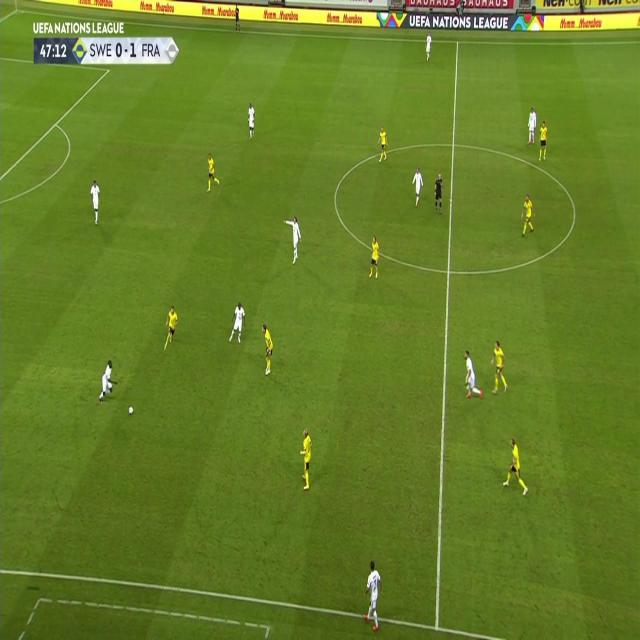ball: (127, 404, 134, 416)
player: (502, 437, 530, 497), (362, 559, 384, 632), (462, 350, 484, 401), (490, 338, 510, 394), (97, 359, 119, 405), (282, 215, 302, 264), (299, 427, 313, 492), (162, 305, 180, 353), (228, 301, 246, 344), (260, 322, 274, 376), (520, 192, 536, 238), (88, 178, 102, 226), (410, 165, 424, 208), (368, 234, 381, 279), (206, 152, 220, 193), (538, 119, 549, 162), (377, 125, 389, 163), (434, 171, 444, 214), (527, 107, 537, 145), (246, 102, 256, 140), (424, 32, 433, 62), (234, 4, 241, 30)
